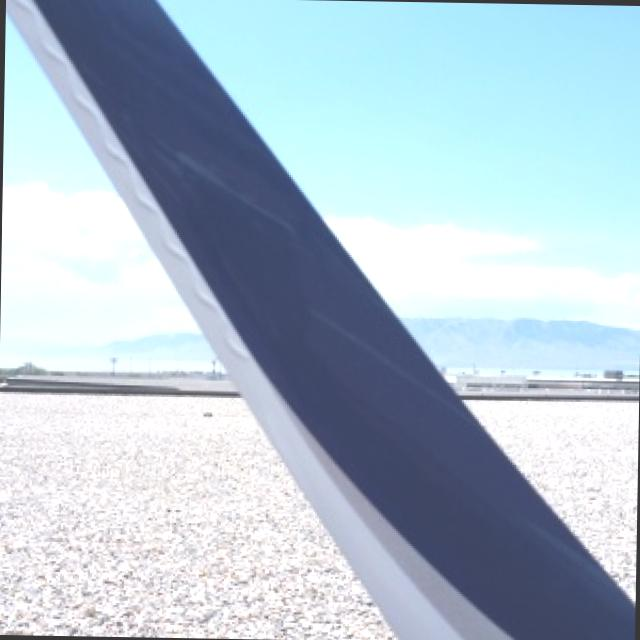healthy: (5, 0, 633, 640)
